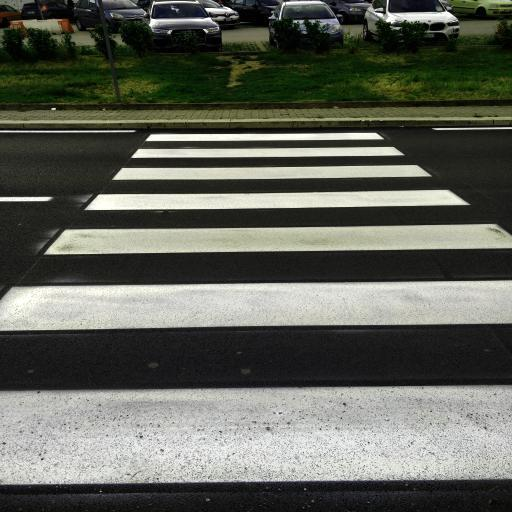crosswalk: (0, 266, 512, 502), (72, 159, 480, 217)
